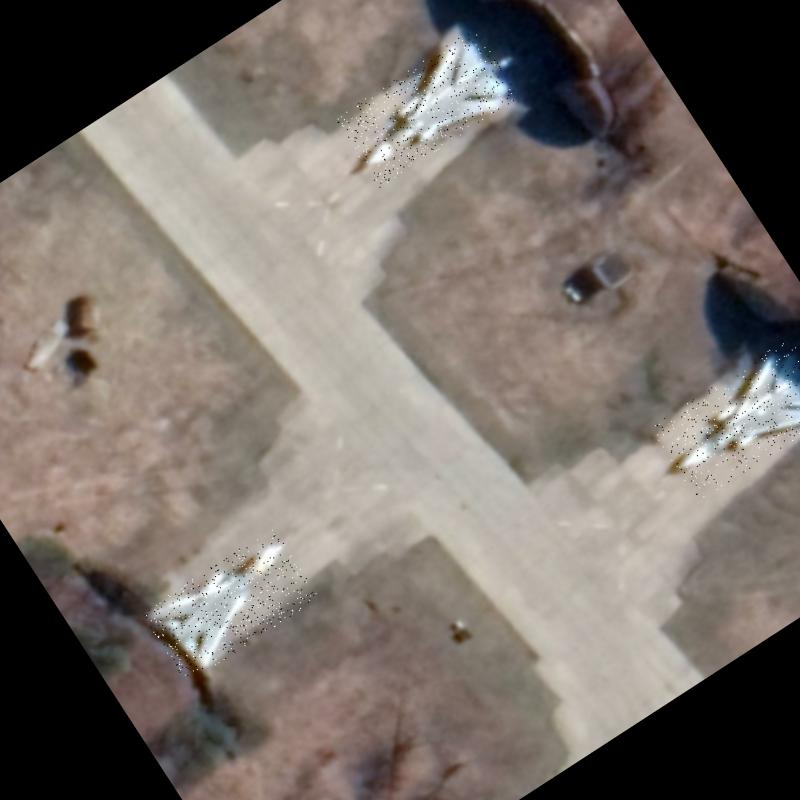A20: (334, 27, 520, 188), (141, 526, 320, 684), (650, 335, 800, 501)
